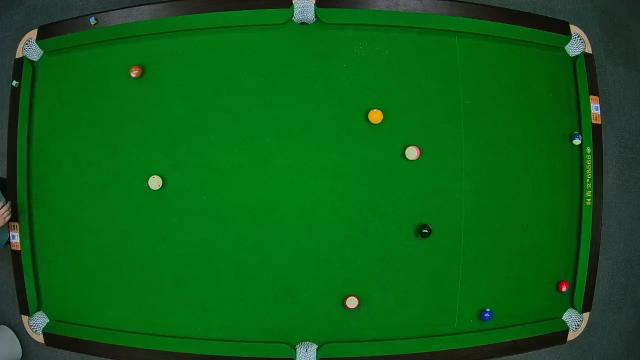bag1: (19, 36, 45, 64)
bag2: (292, 0, 316, 26)
bag3: (563, 30, 589, 57)
bag4: (25, 309, 51, 339)
bag5: (294, 340, 318, 360)
bag6: (560, 306, 586, 334)
ball0: (148, 175, 164, 191)
ball1: (367, 108, 385, 124)
ball10: (569, 132, 583, 146)
ball11: (344, 295, 360, 311)
ball12: (403, 145, 421, 163)
ball2: (478, 307, 494, 323)
ball3: (557, 279, 571, 295)
ball7: (128, 64, 144, 80)
ball8: (416, 224, 434, 241)
